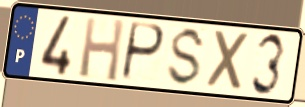3: (249, 32, 293, 98)
4: (38, 13, 74, 78)
H: (77, 15, 127, 84)
P: (118, 20, 167, 84)
S: (164, 25, 208, 89)
X: (206, 28, 253, 94)
